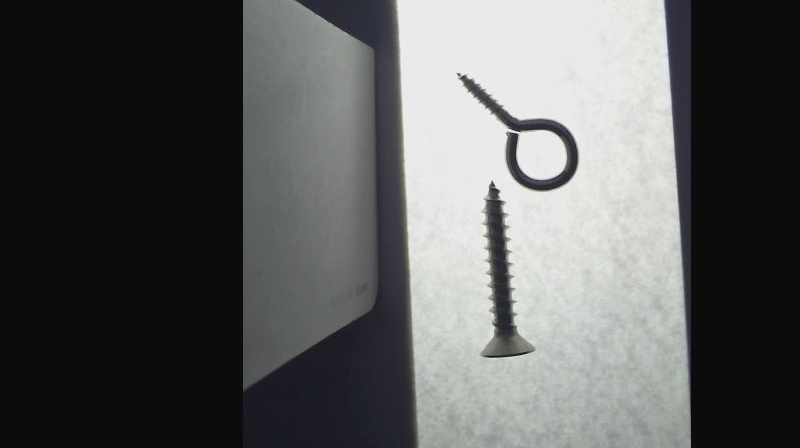O001: (454, 71, 578, 191)
S001: (477, 179, 535, 359)
